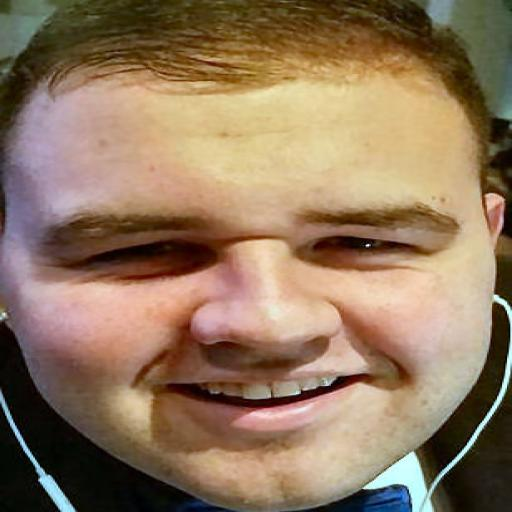Autism: (14, 11, 512, 491)
